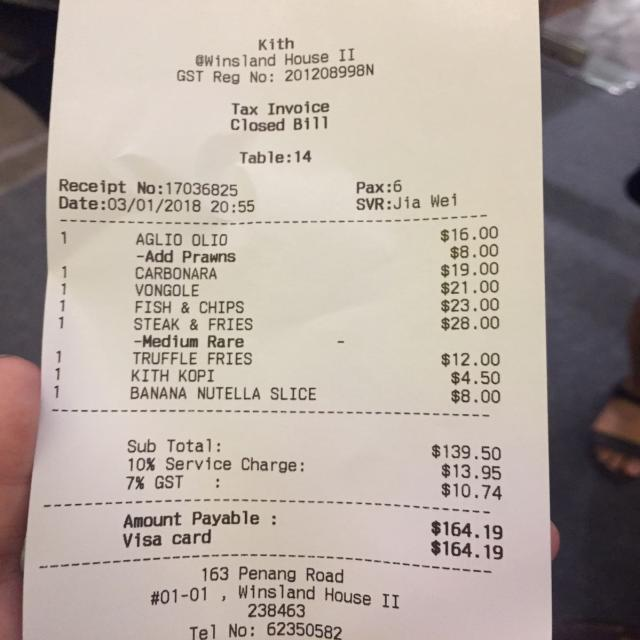bill_region: (50, 221, 515, 568)
